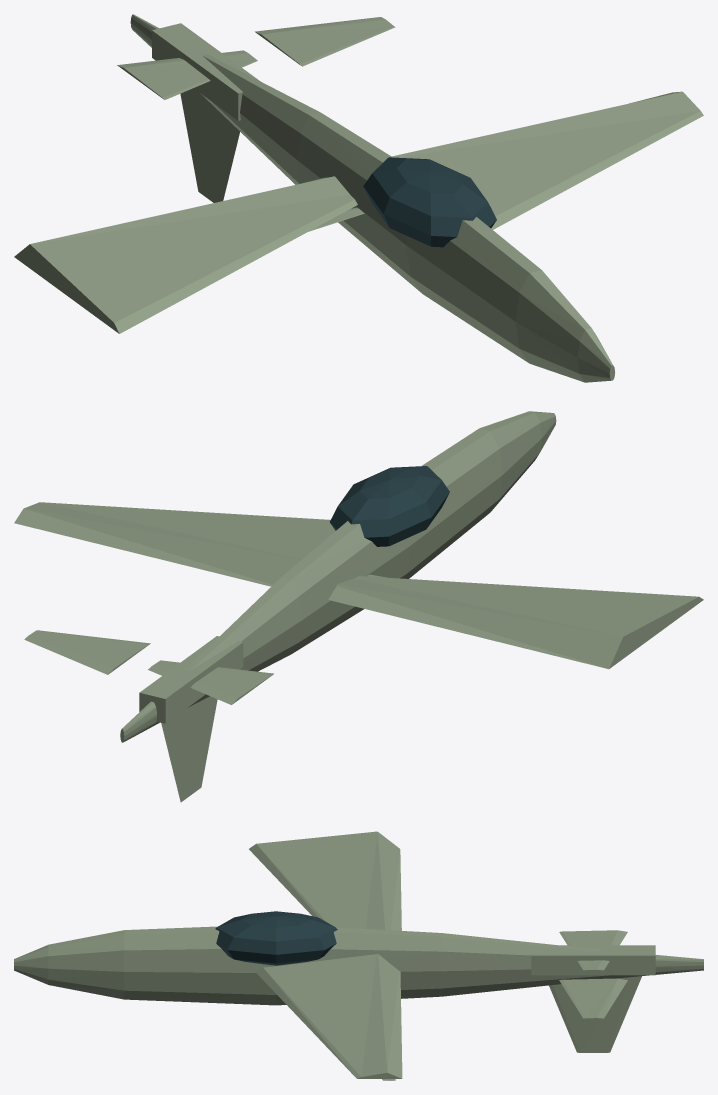
Rendered from tornado.glb.
The picture shows the model from 3 angles, top to bottom: view 1: azimuth 30°, elevation 25°; view 2: azimuth 150°, elevation 25°; view 3: azimuth 270°, elevation 25°; orthographic projection. The views are drawn at different scales.
Visible parts, largest first — view 1: Fuselage, Wing_L, Wing_R, Cockpit, Rudder, TailBoom, Elevator_R, Elevator_L; view 2: Fuselage, Wing_L, Wing_R, Cockpit, Rudder, TailBoom, Elevator_R, Elevator_L; view 3: Fuselage, Wing_R, Wing_L, Cockpit, TailBoom, Rudder, Elevator_R, Elevator_L.
Part boxes in pixels (<box>): Fuselage: <box>130,14,615,382</box>; Wing_L: <box>14,176,357,333</box>; Wing_R: <box>392,91,703,229</box>; Cockpit: <box>363,157,496,247</box>; Rudder: <box>180,88,239,202</box>; TailBoom: <box>152,23,259,120</box>; Elevator_R: <box>255,17,395,66</box>; Elevator_L: <box>117,50,257,99</box>; Fuselage: <box>120,411,556,742</box>; Wing_L: <box>328,576,703,669</box>; Wing_R: <box>14,502,335,586</box>; Cockpit: <box>330,466,449,546</box>; Rudder: <box>161,696,217,802</box>; TailBoom: <box>139,636,243,723</box>; Elevator_R: <box>24,630,150,674</box>; Elevator_L: <box>148,660,273,704</box>; Fuselage: <box>14,926,703,1005</box>; Wing_R: <box>256,954,402,1078</box>; Wing_L: <box>249,831,401,930</box>; Cockpit: <box>215,911,337,965</box>; TailBoom: <box>531,945,655,975</box>; Rudder: <box>549,976,641,1052</box>; Elevator_R: <box>559,978,627,1018</box>; Elevator_L: <box>559,930,627,970</box>.
Bounding box in the file's own units: 13.34 × 3.66 × 16.8.
